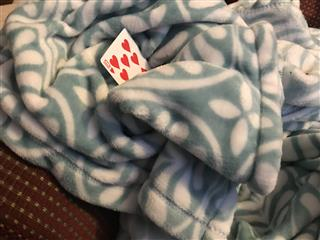TenOfHearts: (99, 27, 150, 85)
